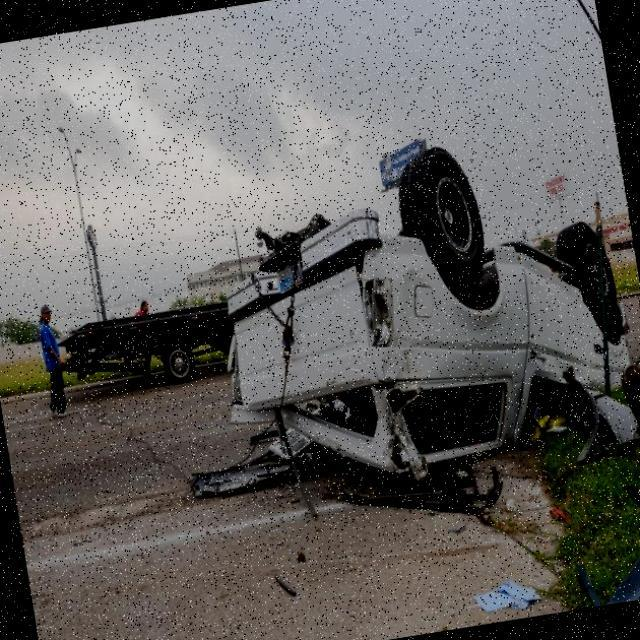accident: (200, 184, 640, 532)
